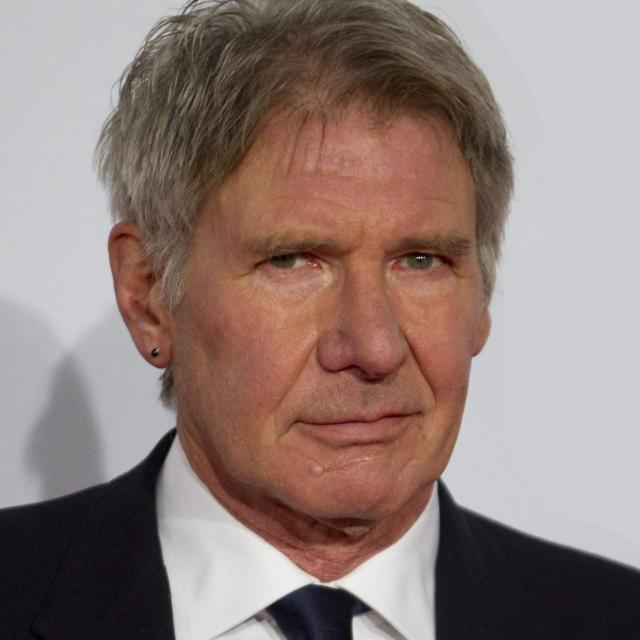no-earmuff: (91, 214, 213, 380)
